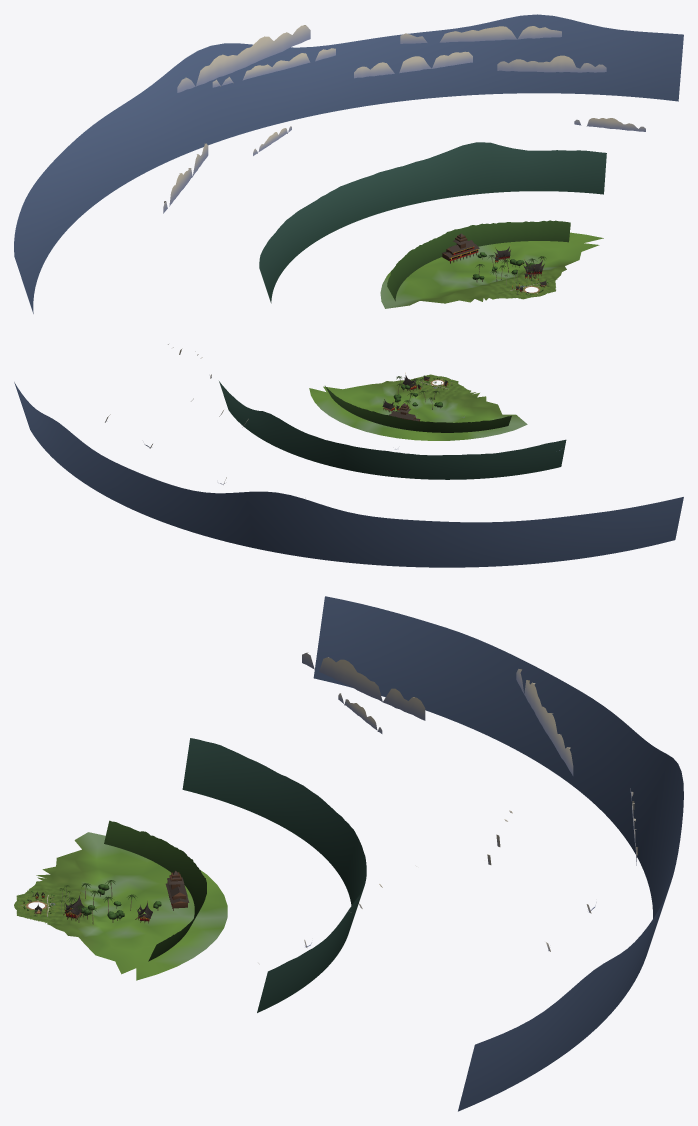
File: arena_nsembilan.glb
3 views of the same model, one above another, from view 1: azimuth 30°, elevation 25°; view 2: azimuth 150°, elevation 25°; view 3: azimuth 270°, elevation 25° (orthographic). The views are drawn at different scales.
Parts seen in each view (by area): view 1: EnvFar_MatLeaf_canopy, EnvFar_MatPlaster_cloud, EnvFar_MatGrass_lawn, EnvBattle_MatGrass_lawn, EnvFar_MatWood_timber, EnvFar_MatThatch_ijuk; view 2: EnvFar_MatLeaf_canopy, EnvFar_MatGrass_lawn, EnvBattle_MatGrass_lawn, EnvFar_MatThatch_ijuk; view 3: EnvFar_MatLeaf_canopy, EnvFar_MatGrass_lawn, EnvFar_MatPlaster_cloud, EnvBattle_MatGrass_lawn.
Part boxes in pixels (x1,y1,x2,y2): EnvFar_MatLeaf_canopy: (14,14,683,313); EnvFar_MatPlaster_cloud: (163,25,645,213); EnvFar_MatGrass_lawn: (380,232,603,308); EnvBattle_MatGrass_lawn: (496,275,556,299); EnvFar_MatWood_timber: (442,235,542,284); EnvFar_MatThatch_ijuk: (441,233,544,277); EnvFar_MatLeaf_canopy: (14,376,683,567); EnvFar_MatGrass_lawn: (309,380,527,440); EnvBattle_MatGrass_lawn: (409,374,464,395); EnvFar_MatThatch_ijuk: (382,373,420,420); EnvFar_MatLeaf_canopy: (59,596,683,1111); EnvFar_MatGrass_lawn: (32,832,227,980); EnvFar_MatPlaster_cloud: (258,652,637,964); EnvBattle_MatGrass_lawn: (14,887,77,924).
Bounding box in the file's own units: 566 × 95.7 × 356.
